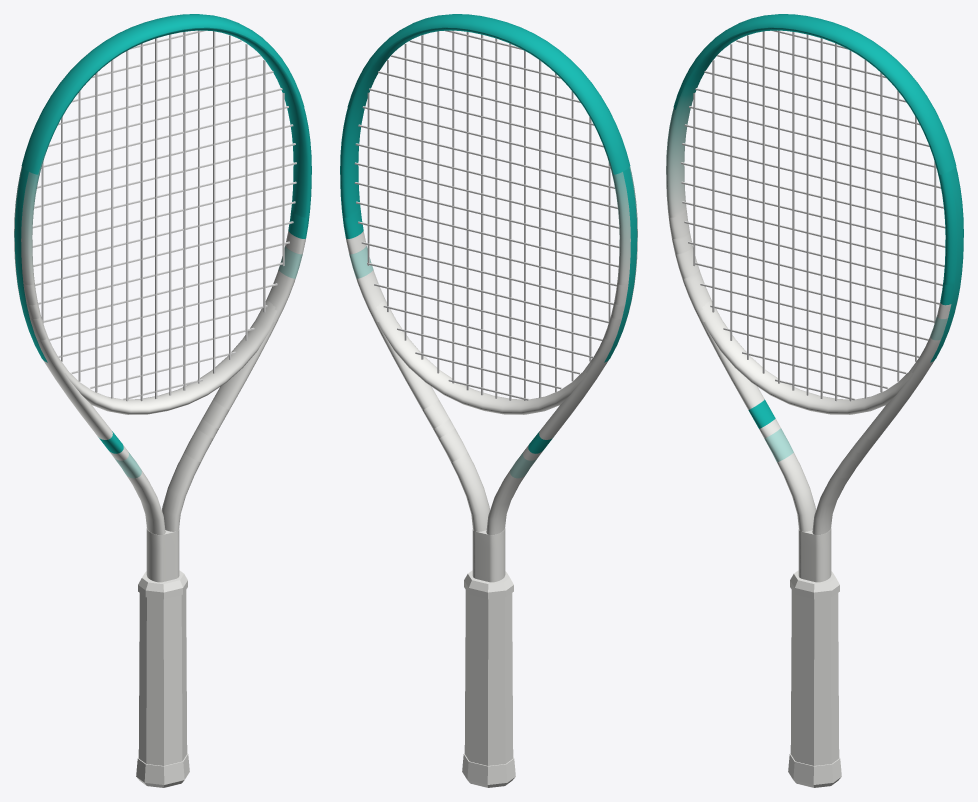
File: tecnifibre-tempo-team-2026.glb
The picture shows the model from 3 angles, left to right: view 1: azimuth 30°, elevation 25°; view 2: azimuth 150°, elevation 25°; view 3: azimuth 330°, elevation 25°; orthographic projection.
Parts seen in each view (by area): view 1: frame, strings_mains, strings_crosses, grip, bumper, grommets, butt_cap, collar; view 2: frame, strings_mains, strings_crosses, grip, bumper, grommets, butt_cap, collar; view 3: frame, strings_mains, strings_crosses, grip, bumper, grommets, butt_cap, collar.
Boxes of the visible parts, <box> form: frame: <box>14,27,311,582</box>; strings_mains: <box>41,30,284,401</box>; strings_crosses: <box>32,30,296,400</box>; grip: <box>138,590,187,765</box>; bumper: <box>21,14,304,174</box>; grommets: <box>14,167,47,362</box>; butt_cap: <box>136,753,189,787</box>; collar: <box>138,570,187,599</box>; frame: <box>340,27,637,582</box>; strings_mains: <box>367,30,610,400</box>; strings_crosses: <box>354,30,619,400</box>; grip: <box>464,590,513,765</box>; bumper: <box>347,14,630,174</box>; grommets: <box>604,167,637,362</box>; butt_cap: <box>462,753,515,787</box>; collar: <box>464,570,513,599</box>; frame: <box>666,27,963,582</box>; strings_mains: <box>693,30,936,401</box>; strings_crosses: <box>681,30,945,400</box>; grip: <box>790,590,839,765</box>; bumper: <box>673,14,956,174</box>; grommets: <box>930,167,963,362</box>; butt_cap: <box>788,753,841,787</box>; collar: <box>790,570,839,599</box>.
Bounding box in the file's own units: 0.2721 × 0.6759 × 0.037.
